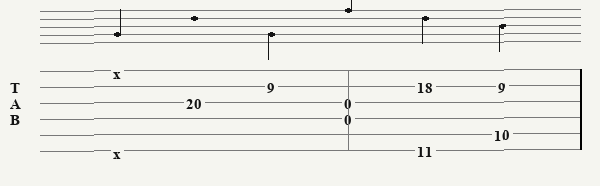0: (344, 95, 356, 109), (344, 111, 356, 125)
10: (494, 127, 514, 141)
11: (417, 143, 437, 157)
18: (417, 79, 437, 93)
20: (186, 95, 206, 109)
9: (267, 79, 279, 93), (498, 79, 510, 93)
x: (113, 145, 125, 156), (113, 65, 125, 76)
